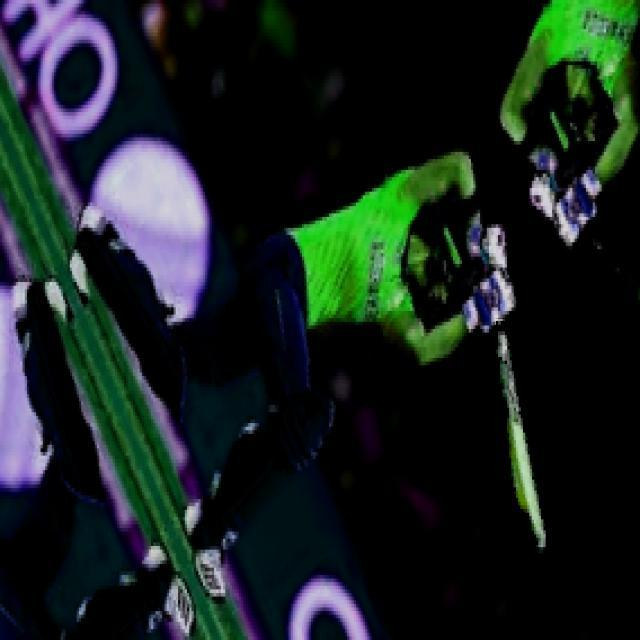bat: (487, 318, 559, 551)
